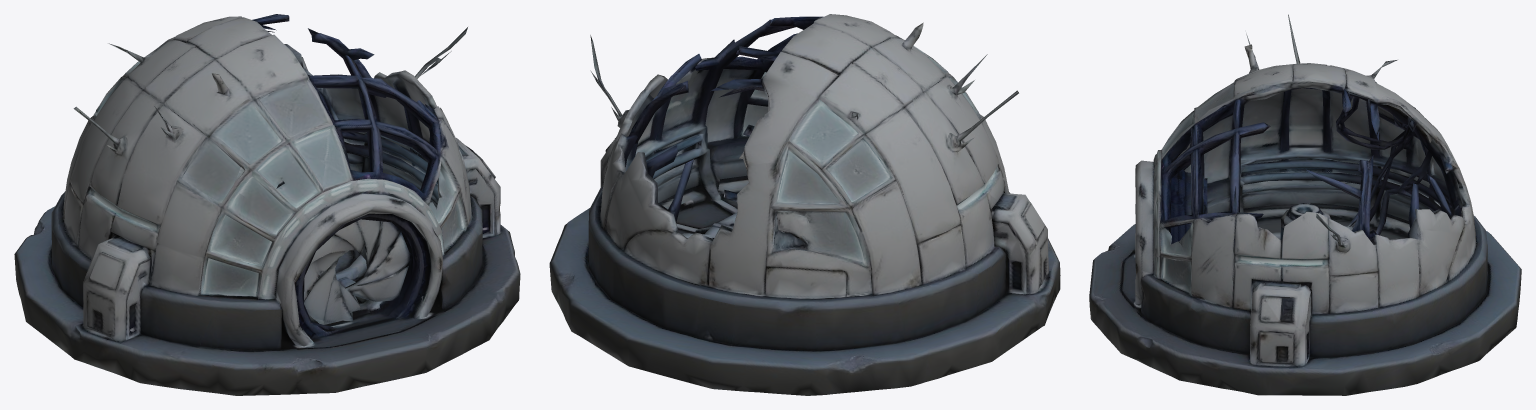
File: futuristic_pod.glb
3 views of the same model, side by side, from view 1: azimuth 30°, elevation 25°; view 2: azimuth 150°, elevation 25°; view 3: azimuth 270°, elevation 25° (orthographic). The views are drawn at different scales.
Parts seen in each view (by area): view 1: tripo_node_741a884c-7333-4708-8f91-7bc0db7cba08; view 2: tripo_node_741a884c-7333-4708-8f91-7bc0db7cba08; view 3: tripo_node_741a884c-7333-4708-8f91-7bc0db7cba08.
Boxes of the visible parts, bbox=[...] form: tripo_node_741a884c-7333-4708-8f91-7bc0db7cba08: bbox=[14, 14, 520, 395]; tripo_node_741a884c-7333-4708-8f91-7bc0db7cba08: bbox=[549, 14, 1060, 395]; tripo_node_741a884c-7333-4708-8f91-7bc0db7cba08: bbox=[1089, 14, 1521, 395].
Size of the model in its own units: 0.9801 by 0.5625 by 0.9766.
1 material, 1 textured.
